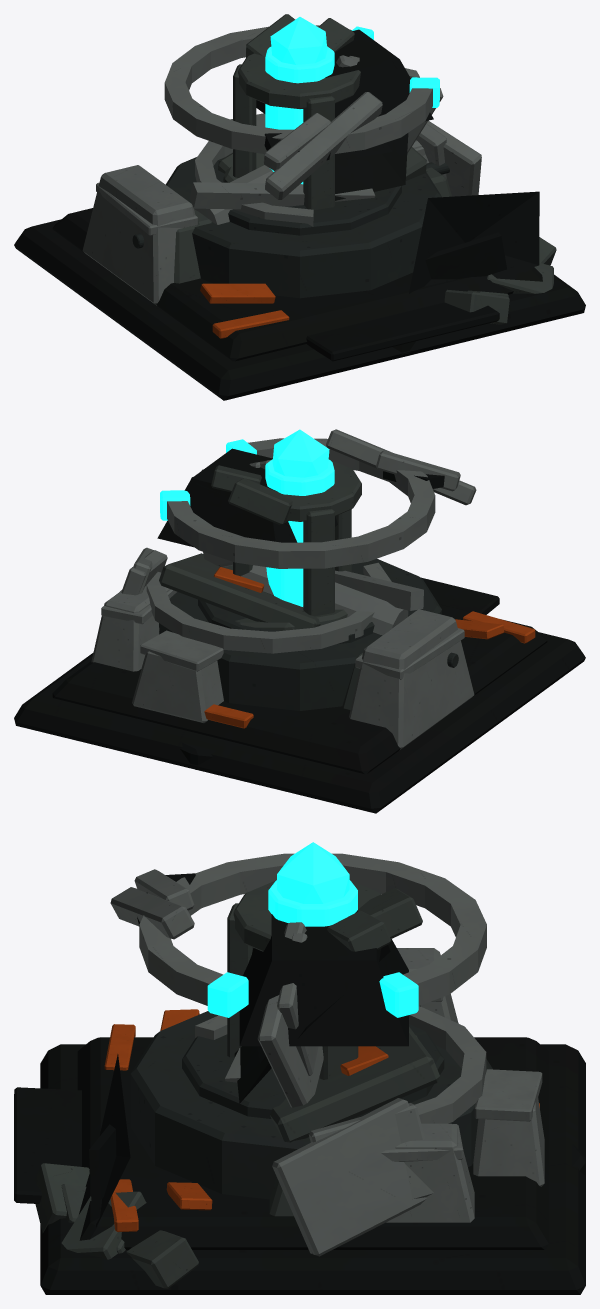
File: ff_rct_01_v1.glb
3 renders of one model, top to bottom at view 1: azimuth 30°, elevation 25°; view 2: azimuth 150°, elevation 25°; view 3: azimuth 270°, elevation 25°, orthographic. The views are drawn at different scales.
Visible parts, largest first — view 1: FF_RCT_01_M_Recess_runtime, FF_RCT_01_M_Gunmetal_runtime, damage_critical_collapse, FF_RCT_01_M_Steel_runtime, reactor_ring_M_Steel_runtime, reactor_core_M_ArmorPanel_runtime, damage_critical_bent_armor, ruin_broken_machinery, powered_reactor_core_M_Huijing_runtime, damage_damaged_breach, damage_critical_debris, ruin_collapsed_structure (+5 smaller); view 2: FF_RCT_01_M_Recess_runtime, FF_RCT_01_M_Steel_runtime, FF_RCT_01_M_Gunmetal_runtime, reactor_ring_M_Steel_runtime, ruin_broken_machinery, ruin_collapsed_structure, reactor_core_M_ArmorPanel_runtime, powered_reactor_core_M_Huijing_runtime, damage_critical_collapse, damage_critical_bent_armor, damage_damaged_bent_armor, damage_critical_debris (+5 smaller); view 3: FF_RCT_01_M_Recess_runtime, FF_RCT_01_M_Gunmetal_runtime, damage_critical_bent_armor, damage_critical_collapse, reactor_ring_M_Steel_runtime, FF_RCT_01_M_Steel_runtime, damage_critical_debris, ruin_collapsed_structure, powered_reactor_core_M_Huijing_runtime, ruin_broken_machinery, reactor_core_M_ArmorPanel_runtime, damage_damaged_bent_armor (+5 smaller).
Part boxes in pixels (x1,y1,x2,y2): FF_RCT_01_M_Recess_runtime: [14, 208, 585, 400]; FF_RCT_01_M_Gunmetal_runtime: [132, 157, 449, 298]; damage_critical_collapse: [256, 29, 539, 293]; FF_RCT_01_M_Steel_runtime: [82, 113, 428, 305]; reactor_ring_M_Steel_runtime: [164, 25, 432, 153]; reactor_core_M_ArmorPanel_runtime: [233, 53, 360, 209]; damage_critical_bent_armor: [265, 55, 481, 199]; ruin_broken_machinery: [189, 119, 375, 226]; powered_reactor_core_M_Huijing_runtime: [265, 17, 334, 184]; damage_damaged_breach: [264, 133, 506, 279]; damage_critical_debris: [246, 14, 556, 324]; ruin_collapsed_structure: [174, 147, 451, 283]; FF_RCT_01_M_Recess_runtime: [14, 577, 585, 813]; FF_RCT_01_M_Steel_runtime: [91, 572, 474, 749]; FF_RCT_01_M_Gunmetal_runtime: [159, 559, 458, 710]; reactor_ring_M_Steel_runtime: [167, 438, 435, 568]; ruin_broken_machinery: [146, 562, 423, 653]; ruin_collapsed_structure: [159, 553, 362, 709]; reactor_core_M_ArmorPanel_runtime: [233, 459, 361, 616]; powered_reactor_core_M_Huijing_runtime: [265, 429, 334, 606]; damage_critical_collapse: [157, 448, 337, 547]; damage_critical_bent_armor: [133, 429, 476, 593]; damage_damaged_bent_armor: [121, 450, 460, 595]; damage_critical_debris: [228, 478, 292, 525]; FF_RCT_01_M_Recess_runtime: [14, 1037, 585, 1294]; FF_RCT_01_M_Gunmetal_runtime: [130, 1011, 492, 1199]; damage_critical_bent_armor: [110, 887, 426, 1256]; damage_critical_collapse: [96, 911, 408, 1227]; reactor_ring_M_Steel_runtime: [139, 853, 486, 1005]; FF_RCT_01_M_Steel_runtime: [381, 948, 544, 1222]; damage_critical_debris: [33, 888, 422, 1288]; ruin_collapsed_structure: [269, 1005, 439, 1216]; powered_reactor_core_M_Huijing_runtime: [268, 842, 357, 926]; ruin_broken_machinery: [195, 1006, 486, 1123]; reactor_core_M_ArmorPanel_runtime: [227, 880, 380, 1079]; damage_damaged_bent_armor: [134, 869, 433, 1198].
Size of the model in its own units: 7.62 by 5.17 by 7.76.
Materials: 7 (5 with a texture image).
